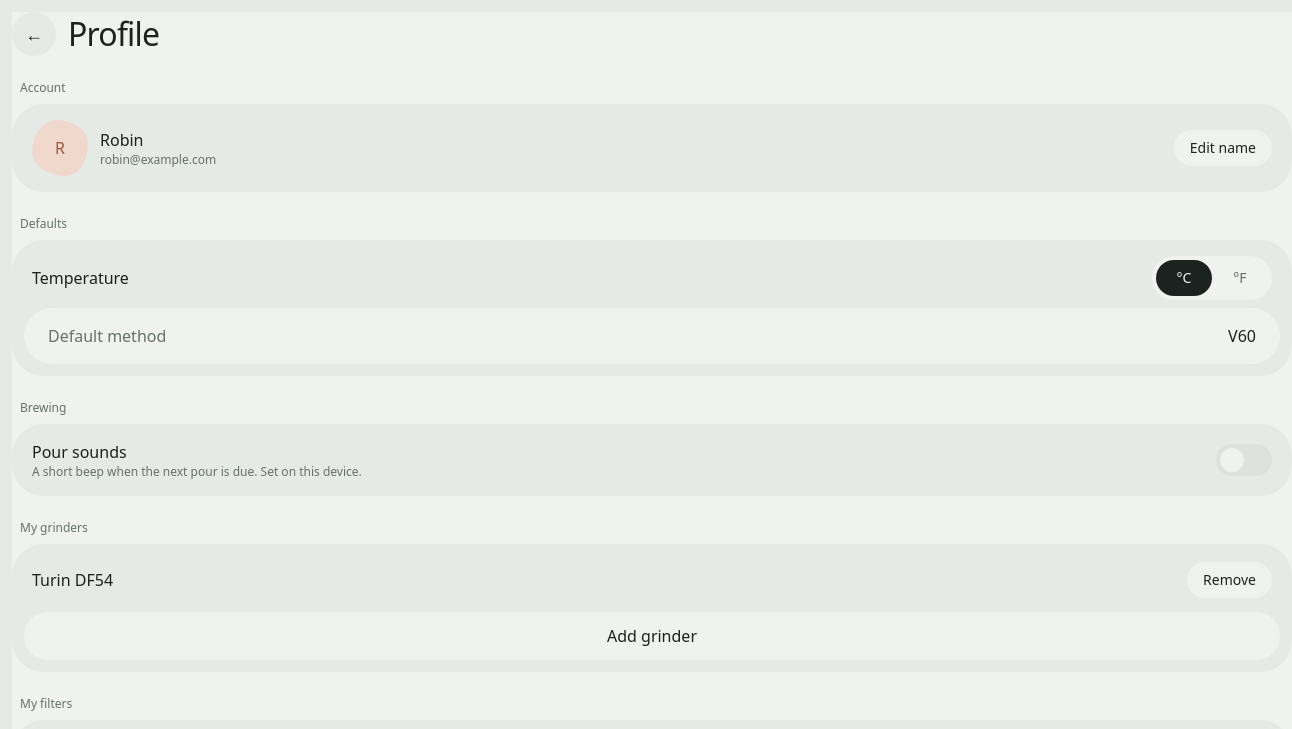
Test: Profile: grinders › removes a grinder
Click the button with aria-label "Remove Turin DF54".
click(1230, 580)  # box x1=1187 y1=562 x2=1272 y2=598
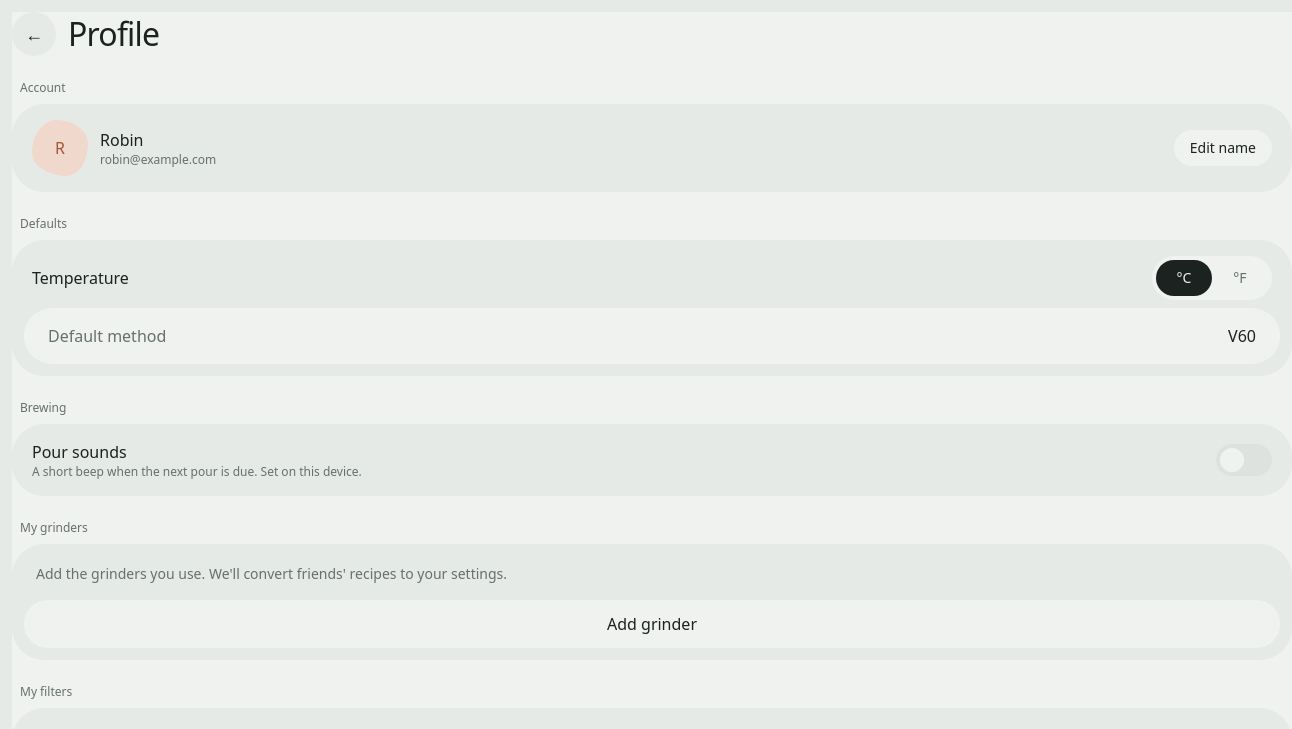
Now the text "Add the grinders you use" is shown, box x1=36 y1=564 x2=507 y2=583
